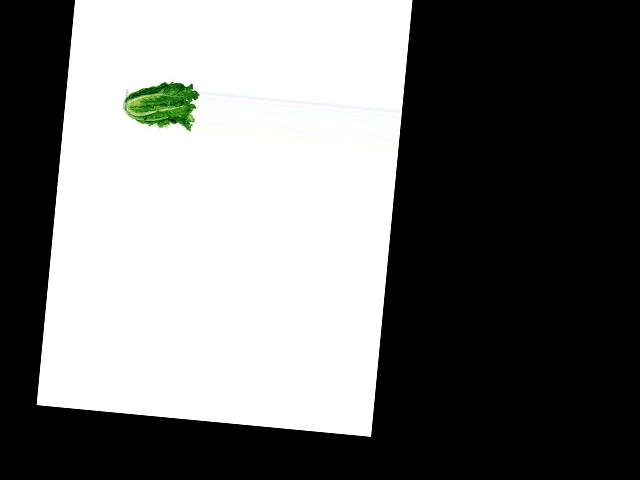lettuce: (123, 77, 200, 133)
